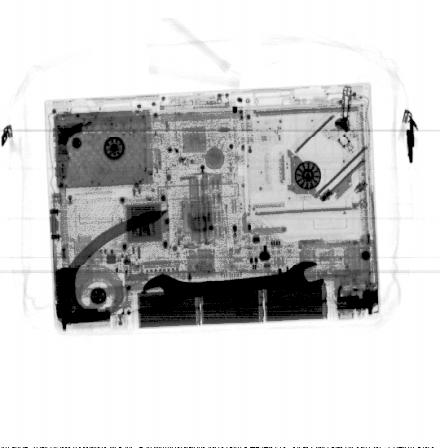Wrench: (141, 258, 325, 313)
